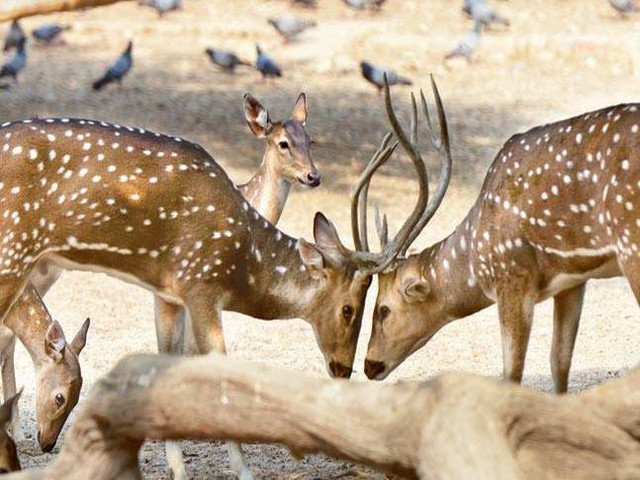deer: (3, 94, 372, 382), (358, 73, 637, 373), (9, 286, 94, 462), (229, 79, 330, 223)
